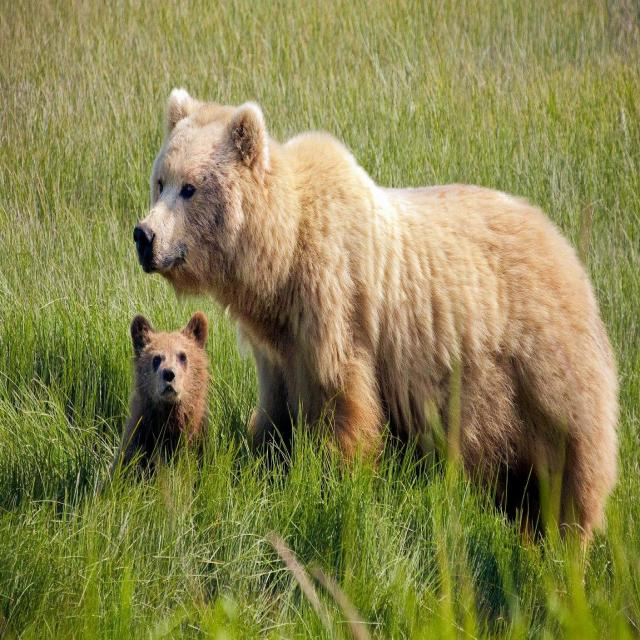Bear: (132, 88, 620, 543), (120, 315, 212, 469)
